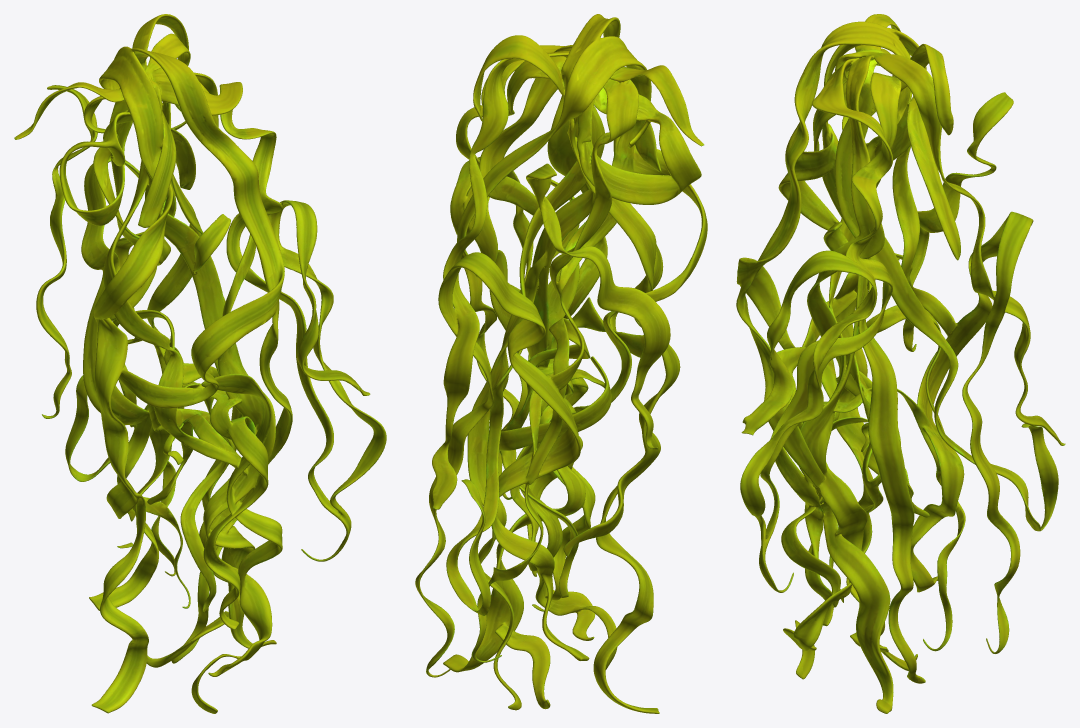
The model's file is ribbon_seaweed.glb.
The picture shows the model from 3 angles, left to right: view 1: azimuth 30°, elevation 25°; view 2: azimuth 150°, elevation 25°; view 3: azimuth 270°, elevation 25°; orthographic projection. The views are drawn at different scales.
Size of the model in its own units: 0.8895 by 1.9 by 0.8876.
1 material, 1 textured.
